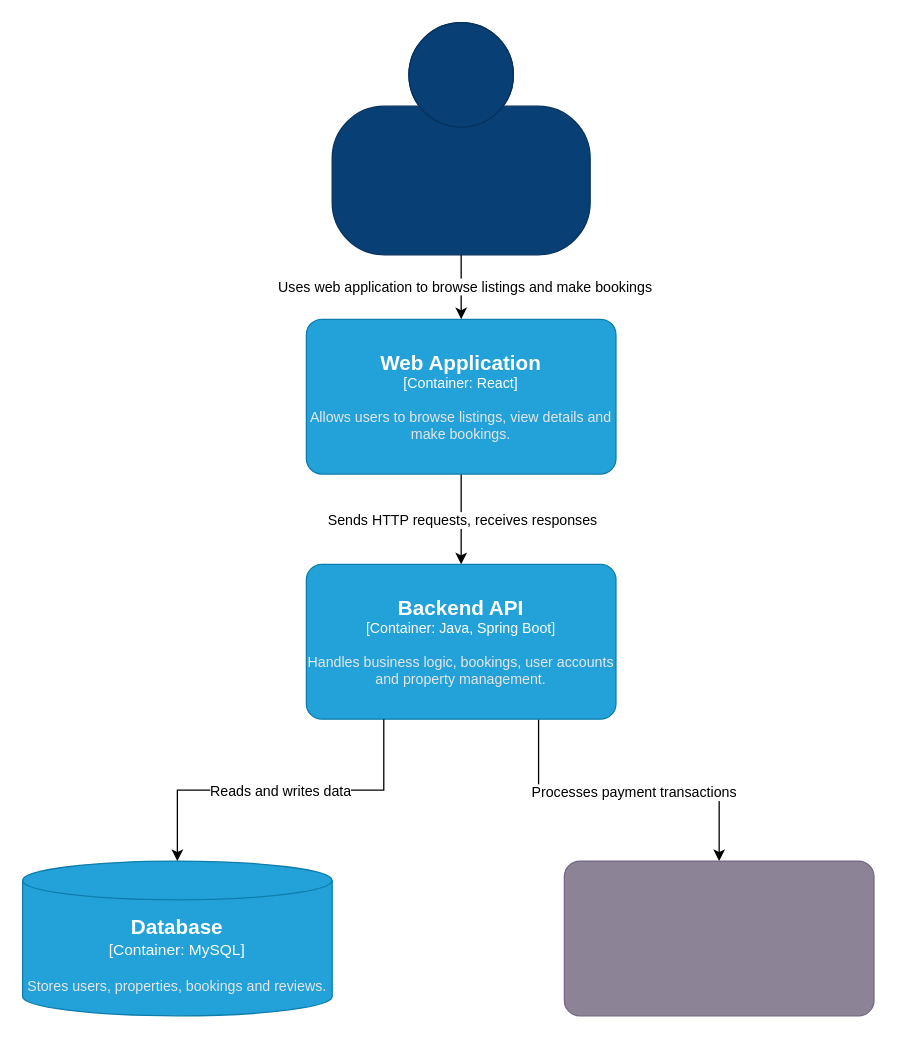
Image size: 897x1038. Some labels were removed from this diagram. The shapes that lost their labels are listed below. From the top down, each one's centre as x and y in pixels, then its label:
At point 460,138: "Client [Person] A customer looking to book a place.".
At point 718,938: "Payment System [External System] Processes payments for bookings.".
